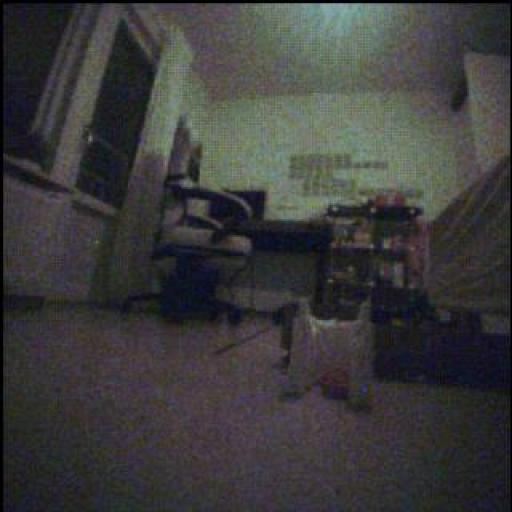basket: (319, 369, 350, 401)
